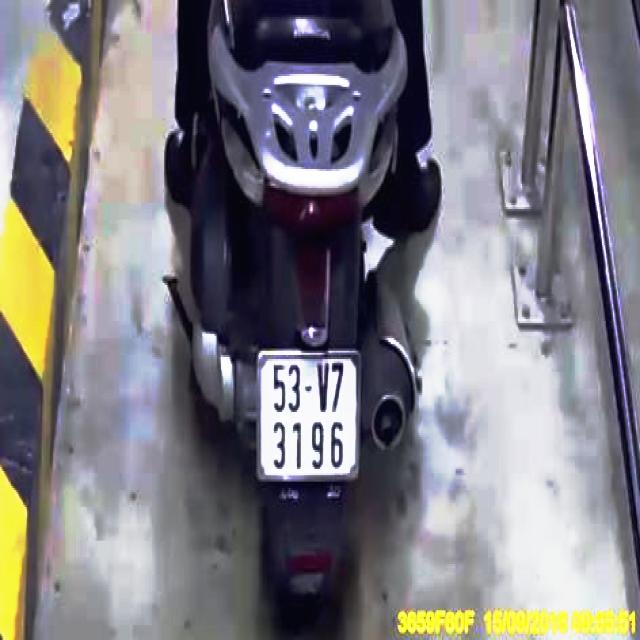license_plate: (260, 350, 362, 479)
